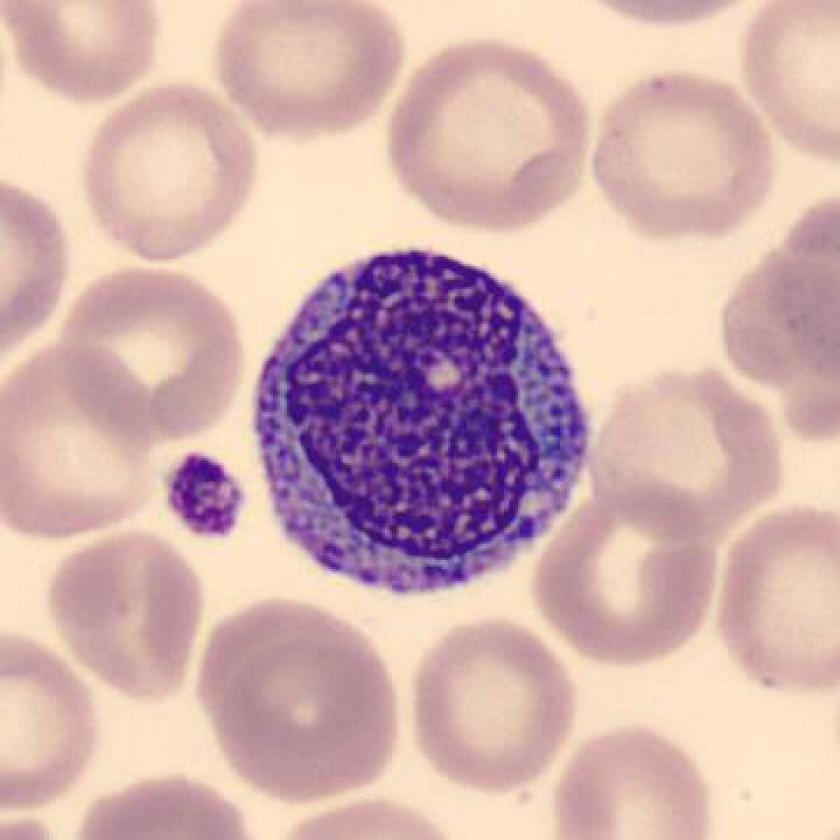monocyte: (234, 228, 610, 612)
